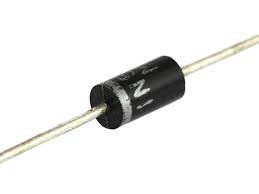diode: (48, 26, 201, 159)
